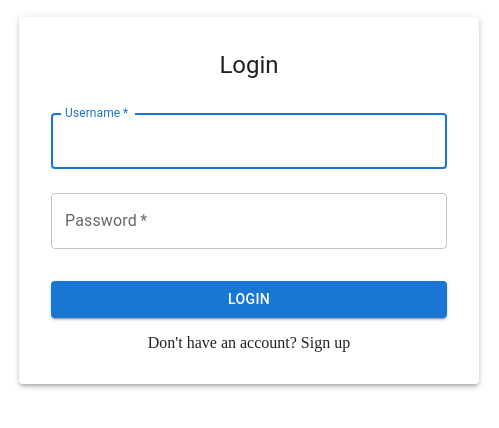
Test case: Login Component › validates password requirements
Type "validuser" into the field labelled "Username *". click: [249, 141]
box: [51, 113, 447, 169]
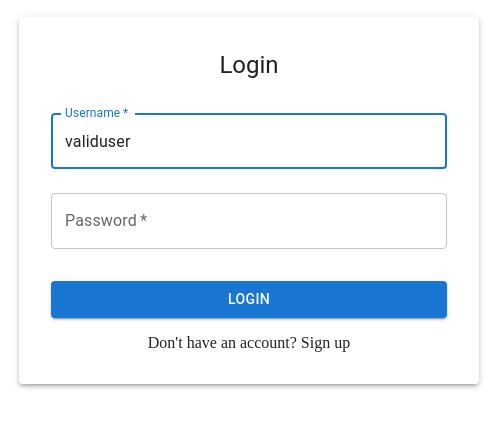
Type "short" into the password field labelled "Password *". click: [249, 221]
box: [51, 193, 447, 249]
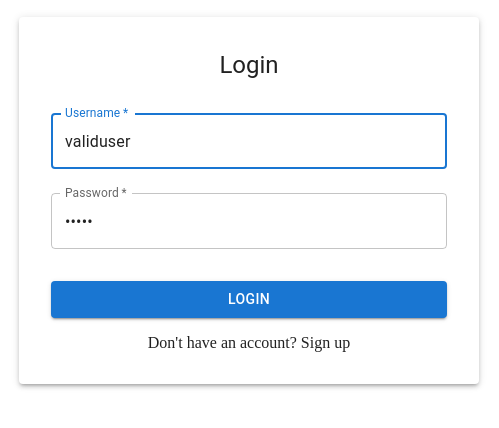
Submit the form from the button "Login", box [51, 281, 447, 318]
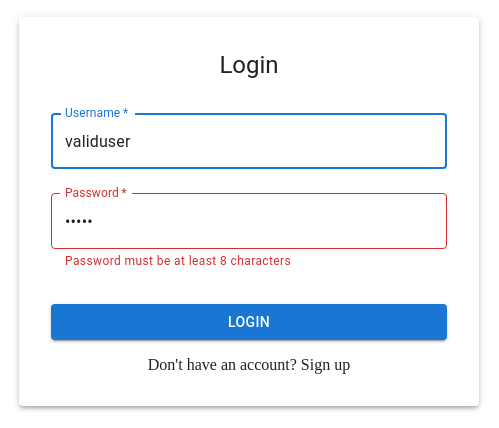
Now the text "Password must be at least 8 characters" is shown, box [65, 254, 291, 268]
